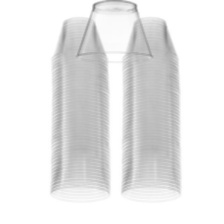glass: (44, 17, 113, 210), (119, 16, 183, 207), (73, 0, 159, 67)
